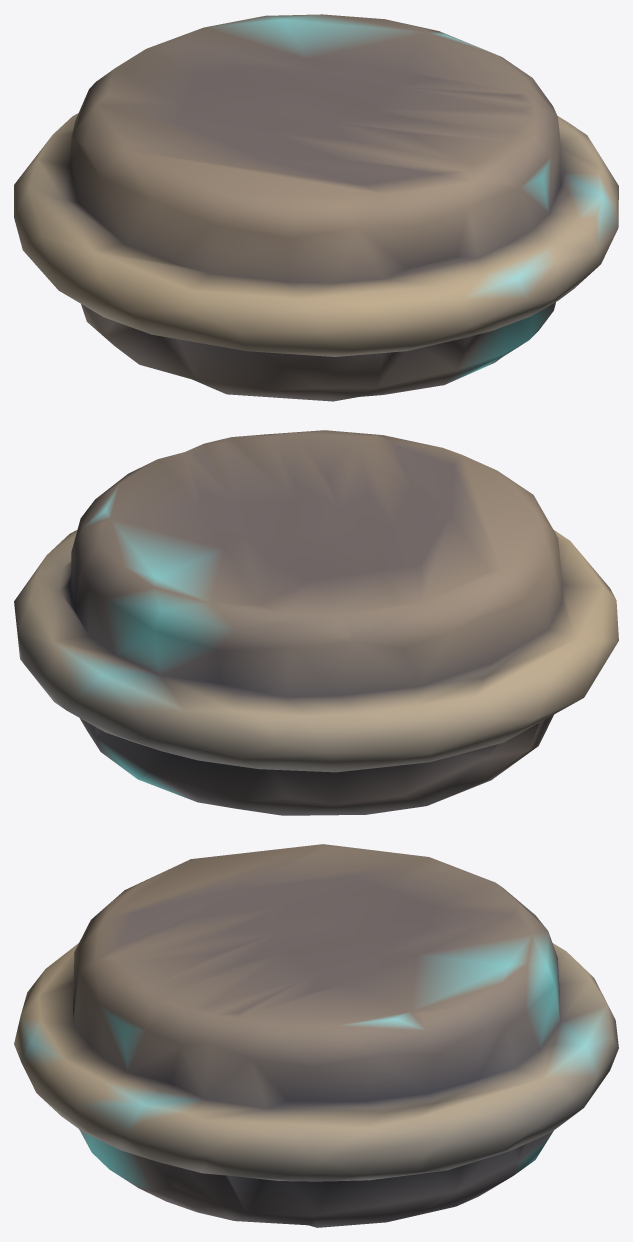
File: burrower_seg5.glb
3 views of the same model, one above another, from view 1: azimuth 30°, elevation 25°; view 2: azimuth 150°, elevation 25°; view 3: azimuth 270°, elevation 25° (orthographic).
Parts seen in each view (by area): view 1: geometry_0; view 2: geometry_0; view 3: geometry_0.
Part boxes in pixels (bbox=[...]): geometry_0: bbox=[14, 14, 618, 401]; geometry_0: bbox=[14, 430, 618, 815]; geometry_0: bbox=[14, 844, 618, 1227].
Bounding box in the file's own units: 0.9249 × 0.34 × 0.9238.
